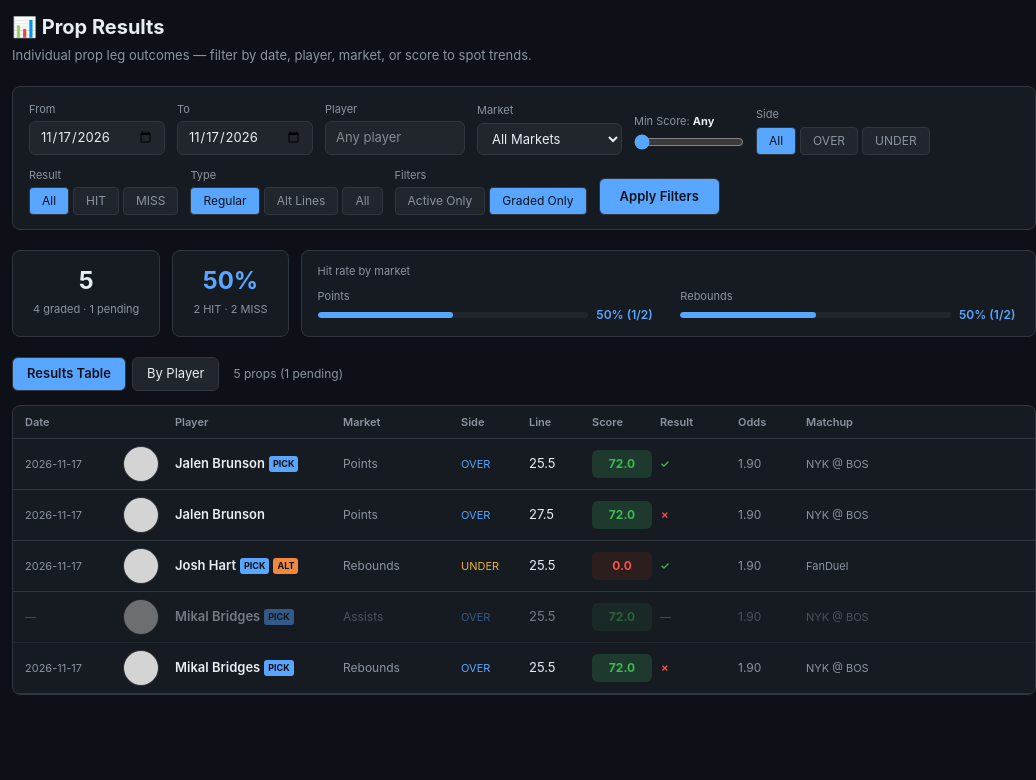
Scenario: PropResultsPage › summarises by player
Expected: the text "4 graded · 1 pending" is shown, [33, 301, 139, 318]
Click the button "By Player". click: (176, 374)
box: [132, 357, 220, 390]
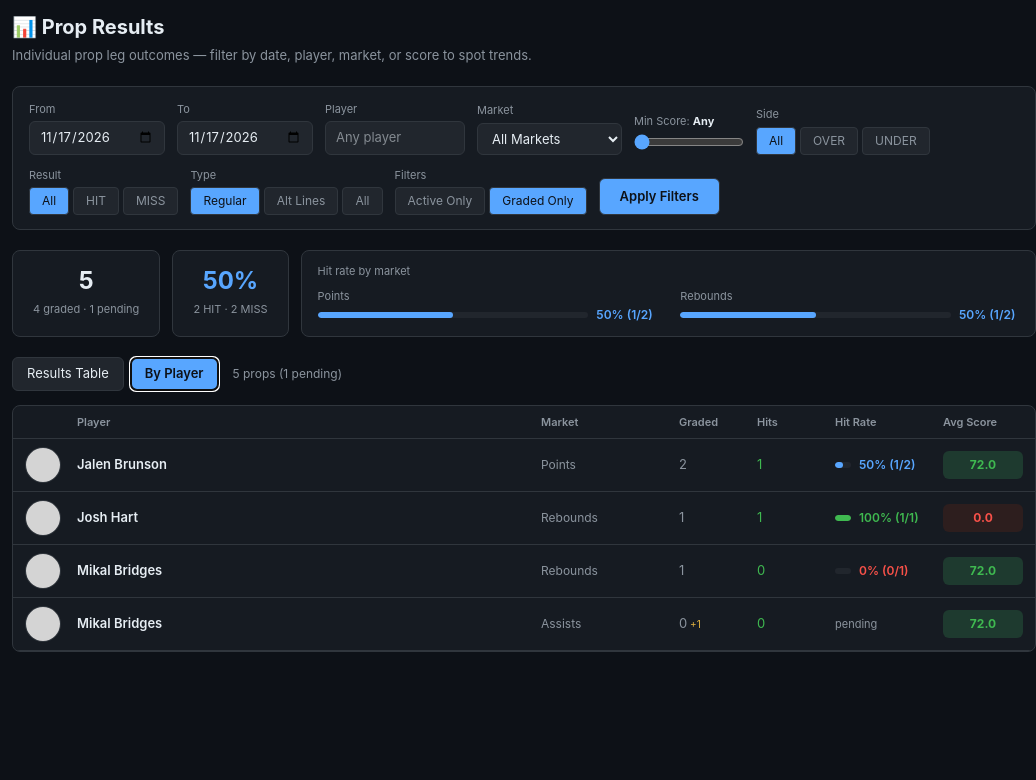
Result: the text "50% (1/2)" is shown 3 times at [596, 306, 656, 324]; [959, 306, 1019, 324]; [859, 456, 919, 474]
Result: the text "pending" is shown at [835, 617, 877, 631]
Result: the text "+1" is shown at [687, 618, 701, 630]
Click the button "Results Table". click: (68, 374)
box: [12, 357, 124, 390]
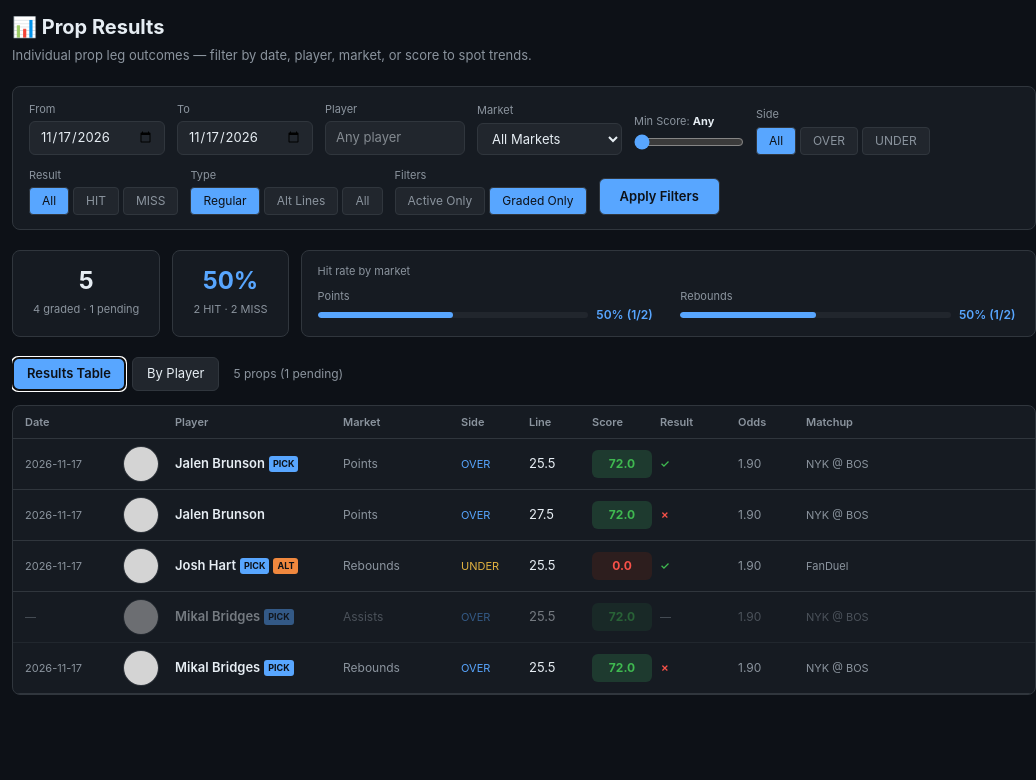
Result: the text "Matchup" is shown at [806, 414, 853, 428]
